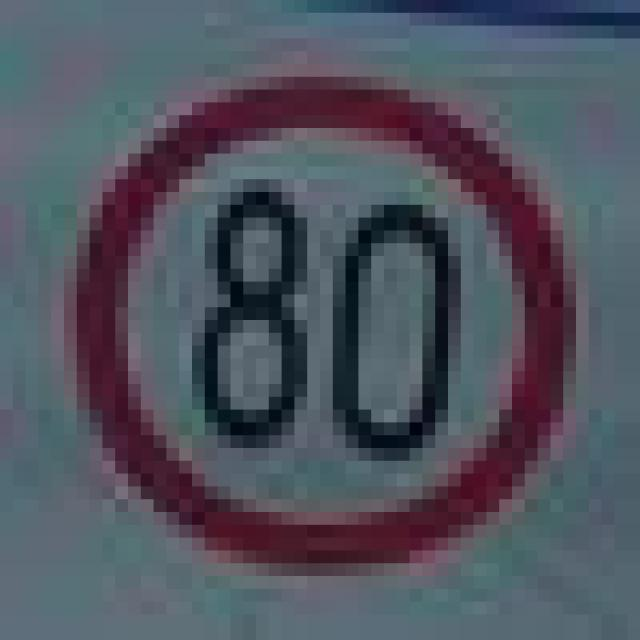SPEED_LIMIT_80: (64, 64, 576, 563)
